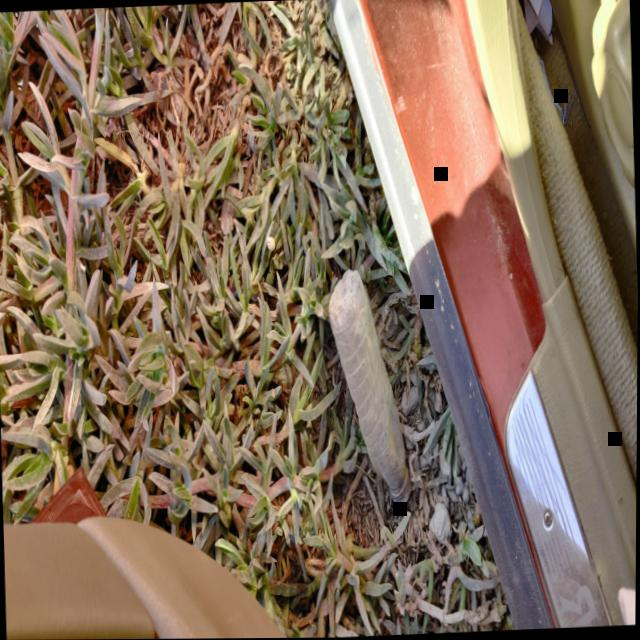Clear plastic bottle: (329, 267, 412, 508)
Normal paper: (524, 0, 552, 44)
Plastic bottle cap: (394, 475, 412, 509)
Rope - strings: (539, 55, 576, 126)
